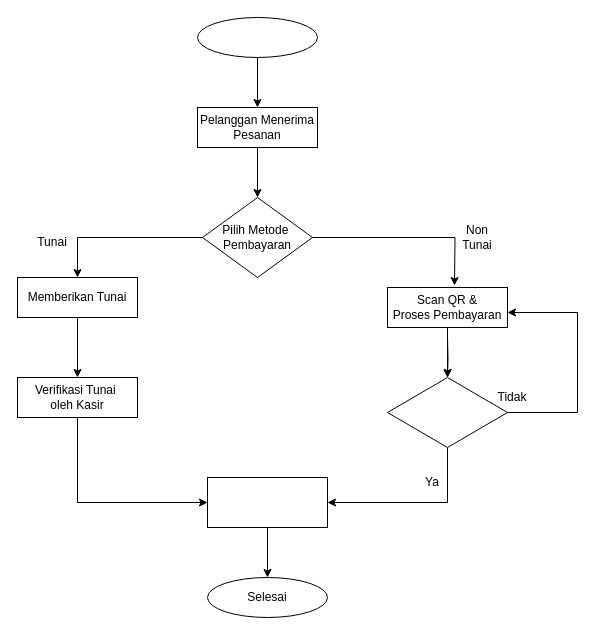
Image size: 603x635. Some labels were removed from this diagram. The shapes that lost their labels are listed below. From the top down, each one's box as (x1, y1, x2, y2) in pixels, then its label:
(196, 16, 318, 58): Mulai
(386, 376, 508, 448): Pembayaran Berhasil?
(206, 476, 328, 528): Pembayaran Diterima
